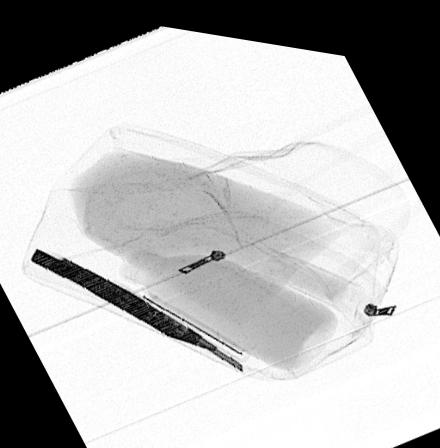Knife: (30, 245, 243, 365)
